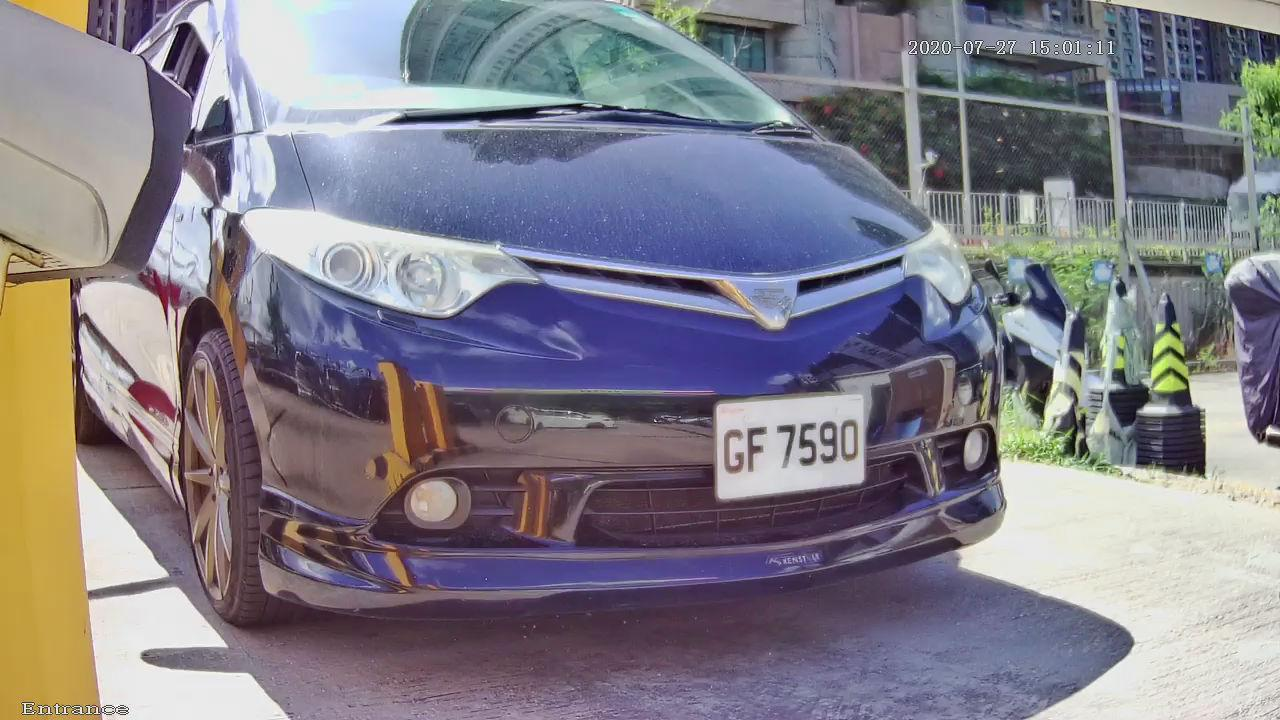privatecar: (80, 39, 1075, 643)
